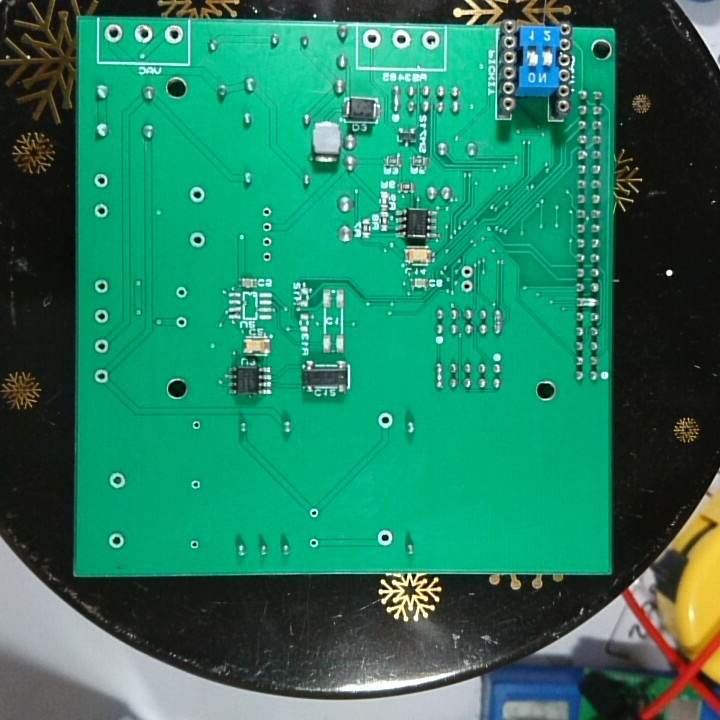F: (390, 26, 413, 52), (162, 22, 185, 46), (102, 22, 127, 44), (187, 229, 209, 253), (133, 23, 155, 46), (106, 470, 128, 492), (361, 28, 383, 50), (186, 183, 207, 205), (107, 529, 127, 552), (421, 28, 441, 51), (375, 411, 396, 431), (91, 368, 113, 386), (374, 528, 393, 548), (93, 277, 111, 297), (92, 307, 110, 326), (92, 171, 109, 191), (92, 202, 110, 220), (173, 313, 190, 332), (173, 283, 189, 303), (258, 249, 276, 266), (259, 204, 276, 220), (93, 338, 109, 355), (307, 535, 321, 554), (460, 263, 476, 279), (258, 233, 274, 249), (459, 279, 476, 294), (259, 220, 276, 235), (188, 477, 203, 493), (190, 418, 203, 435), (308, 505, 321, 521), (187, 538, 201, 552)
P: (573, 295, 603, 310), (390, 83, 403, 116), (433, 360, 444, 390), (493, 307, 504, 337)
